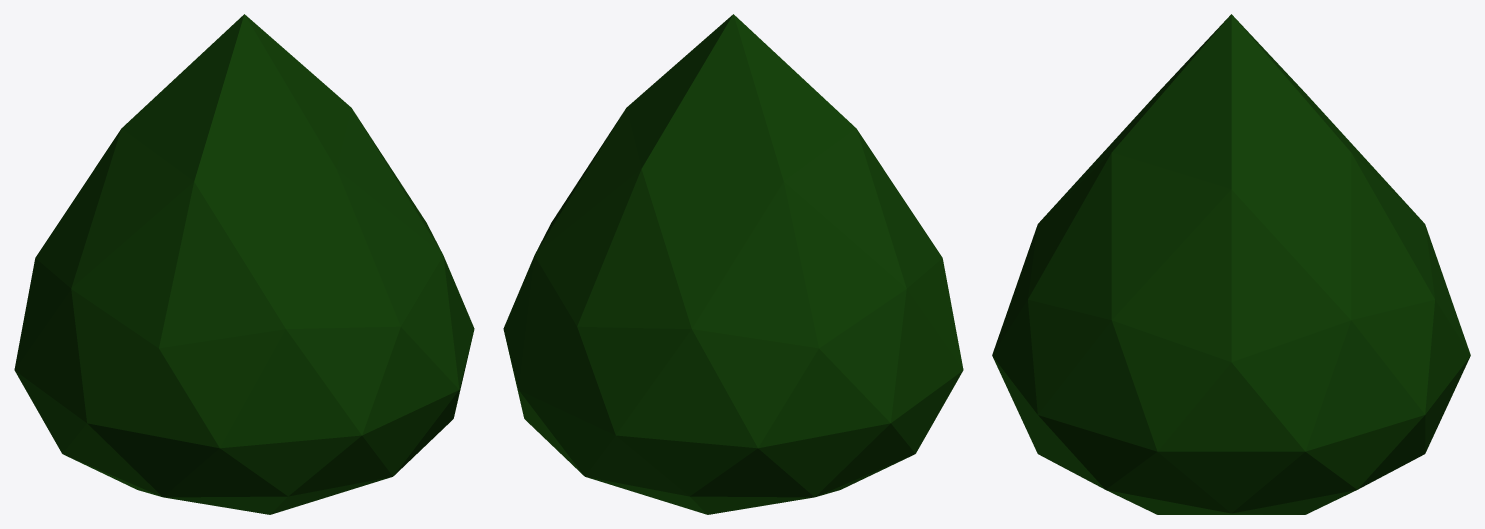
File: Bush_1.glb
The picture shows the model from 3 angles, left to right: view 1: azimuth 30°, elevation 25°; view 2: azimuth 150°, elevation 25°; view 3: azimuth 270°, elevation 25°; orthographic projection.
Parts seen in each view (by area): view 1: Bush_1.001; view 2: Bush_1.001; view 3: Bush_1.001.
Boxes of the visible parts, left/top/right/bottom form: Bush_1.001: left=14, top=14, right=474, bottom=514; Bush_1.001: left=503, top=14, right=963, bottom=514; Bush_1.001: left=992, top=14, right=1470, bottom=514.
Bounding box in the file's own units: 0.9476 × 1.1 × 0.9963.
